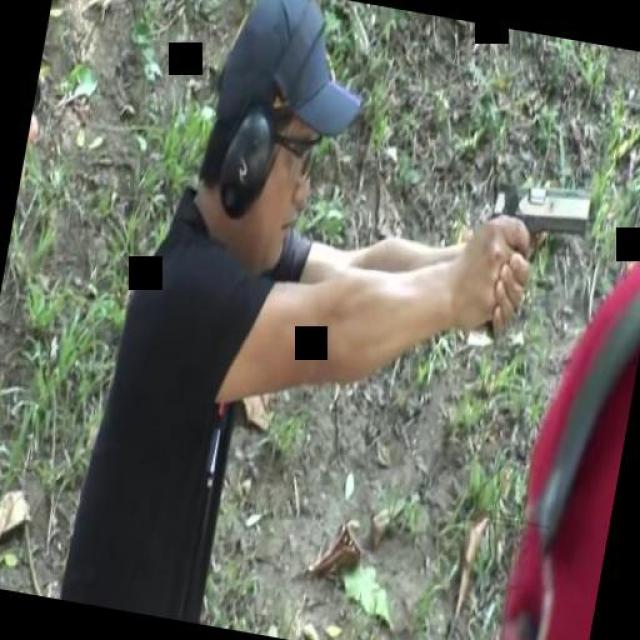gun: (464, 165, 604, 349)
